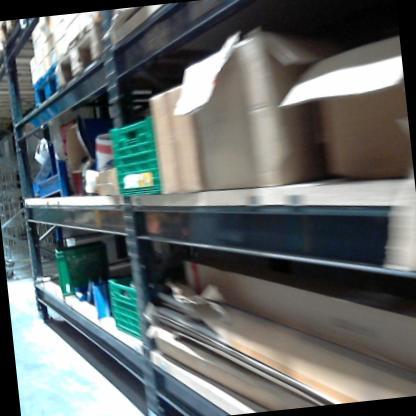pallet: (52, 18, 112, 80), (0, 50, 63, 94), (0, 28, 60, 74), (20, 60, 63, 107), (0, 16, 47, 41)
